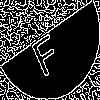F: (25, 25, 64, 79)
